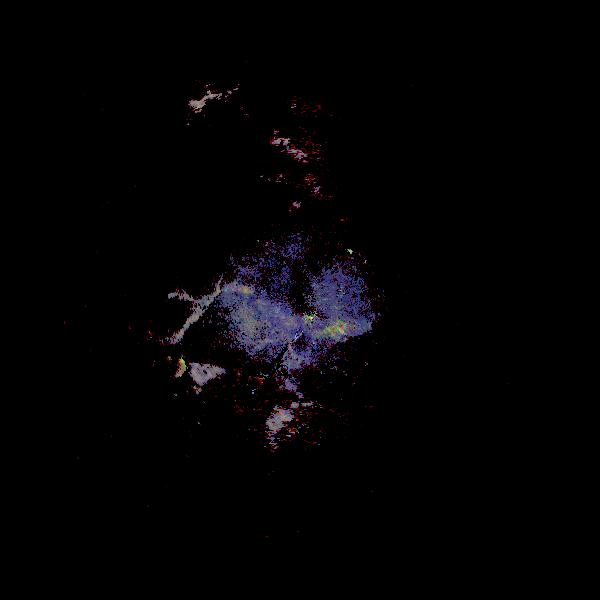roost: (168, 358, 189, 379)
